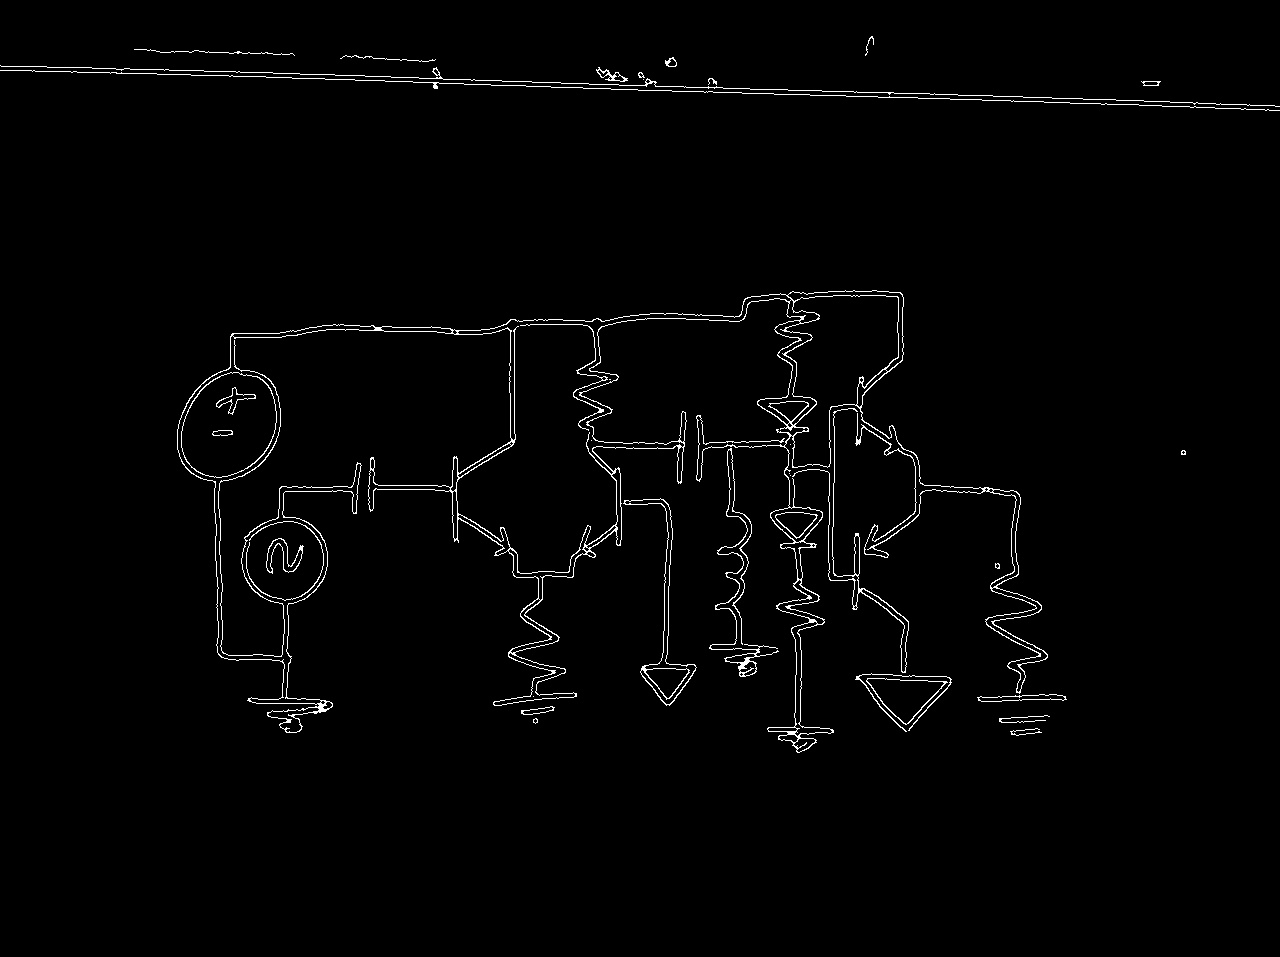capacitor: (661, 404, 720, 489), (341, 452, 390, 521)
diode: (752, 380, 823, 438), (766, 490, 824, 559)
ground0: (239, 678, 340, 778), (700, 631, 786, 711), (762, 704, 840, 789)
ground1: (486, 682, 584, 777), (972, 683, 1073, 777)
ground2: (850, 658, 959, 773), (633, 652, 702, 742)
inductor: (708, 497, 758, 636)
resistor: (978, 548, 1056, 687), (502, 582, 569, 688), (769, 565, 832, 662), (568, 340, 623, 439), (768, 299, 825, 391)
signal: (236, 507, 338, 623)
voltage: (172, 351, 284, 497)
